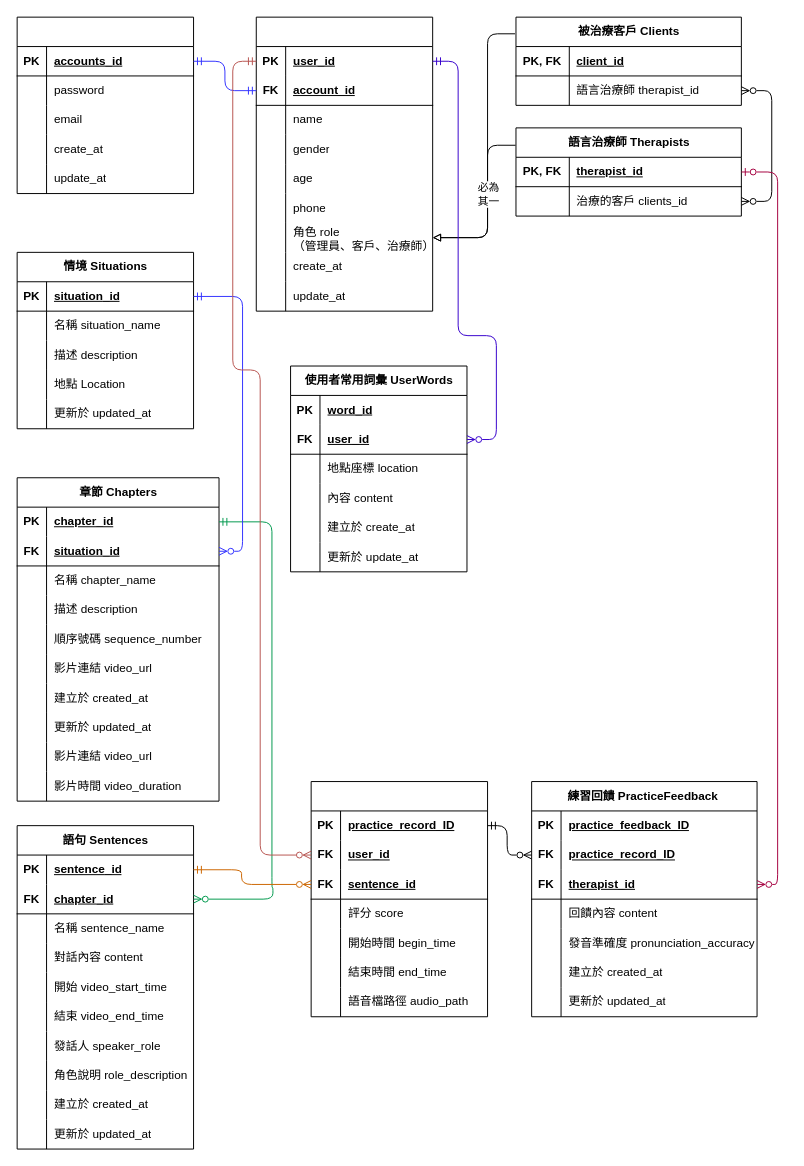
Image size: 804x1166. Some labels were removed from this diagram. The box of each missing label's shape, as (x1, y1, x2, y2) in pixels:
使用者 Users: (255, 16, 433, 311)
帳戶 Accounts: (16, 16, 194, 194)
練習紀錄 PracticeRecords: (310, 781, 488, 1017)
